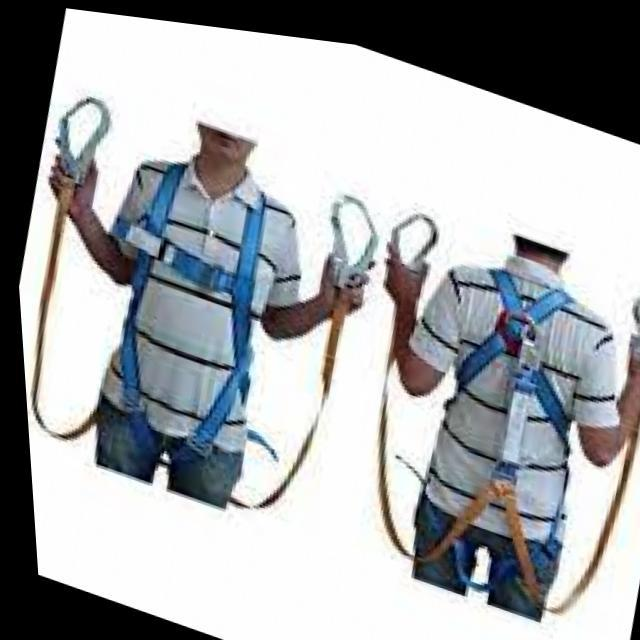belt: (3, 73, 394, 543), (297, 165, 640, 640)
